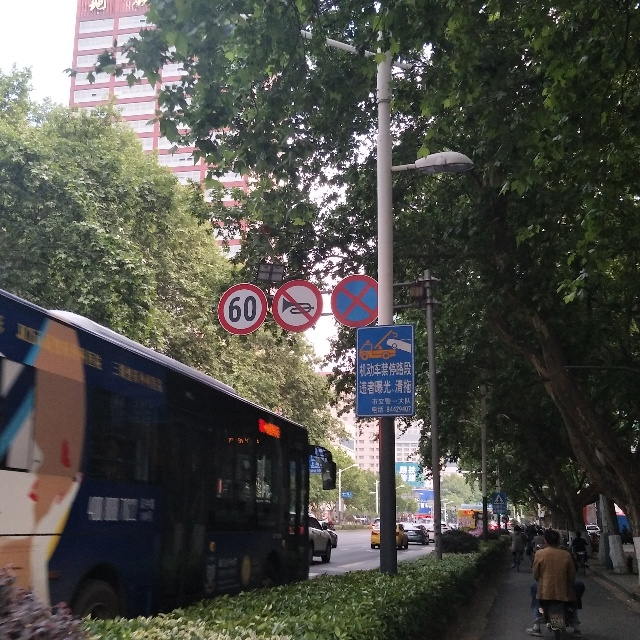nohonk: (273, 278, 327, 328)
stop: (337, 279, 381, 324)
